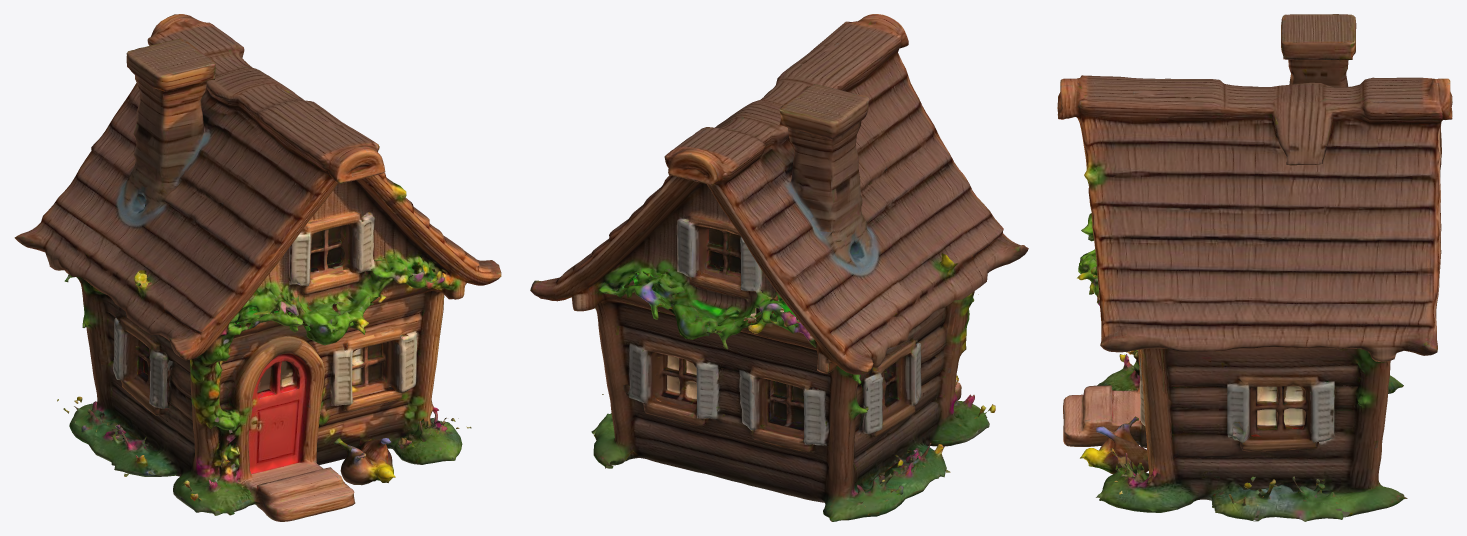
File: cottage.glb
The picture shows the model from 3 angles, left to right: view 1: azimuth 30°, elevation 25°; view 2: azimuth 150°, elevation 25°; view 3: azimuth 270°, elevation 25°; orthographic projection. The views are drawn at different scales.
Visible parts, largest first — view 1: cottage; view 2: cottage; view 3: cottage.
Part boxes in pixels (x1,y1,x2,y2): cottage: (14, 14, 501, 521); cottage: (530, 14, 1028, 521); cottage: (1057, 14, 1452, 521).
Bounding box in the file's own units: 0.9266 × 1 × 0.918.
Materials: 1 (1 with a texture image).
